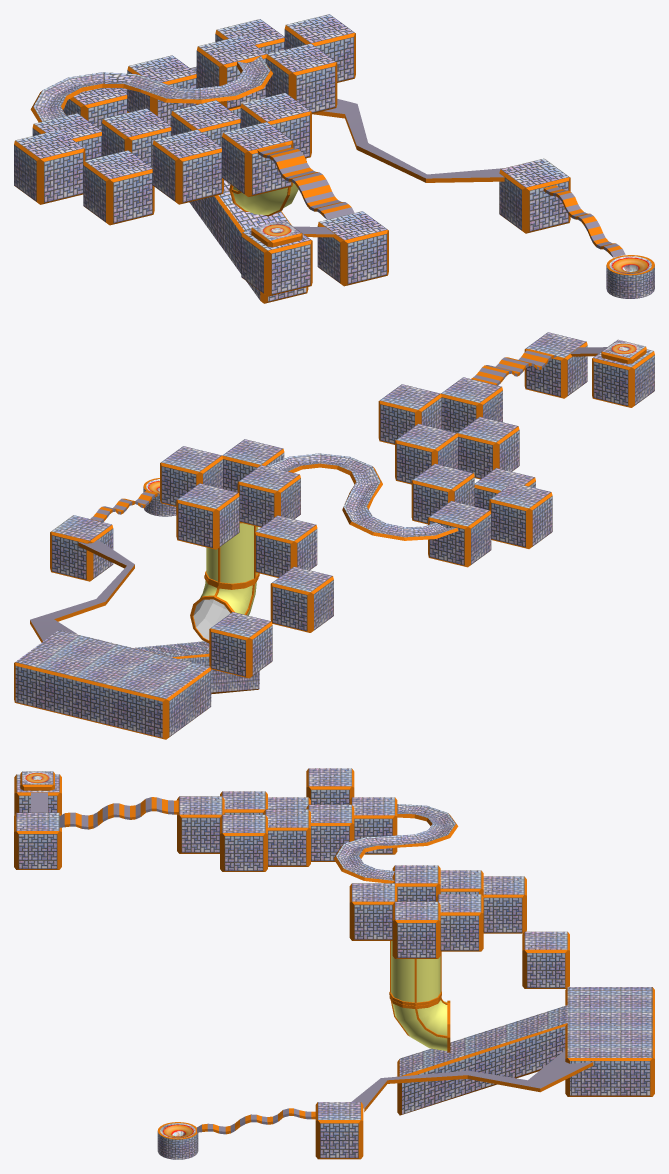
The model's file is Level25.fbx.
3 renders of one model, top to bottom at view 1: azimuth 30°, elevation 25°; view 2: azimuth 150°, elevation 25°; view 3: azimuth 270°, elevation 25°, orthographic. The views are drawn at different scales.
Visible parts, largest first — view 1: Level25; view 2: Level25; view 3: Level25.
Boxes of the visible parts, x1,y1,x2,y2 form: Level25: (14,14,654,303); Level25: (14,332,654,739); Level25: (14,768,654,1159).
Bounding box in the file's own units: 3683 × 1867 × 4451.
Materials: 12 (7 with a texture image).
